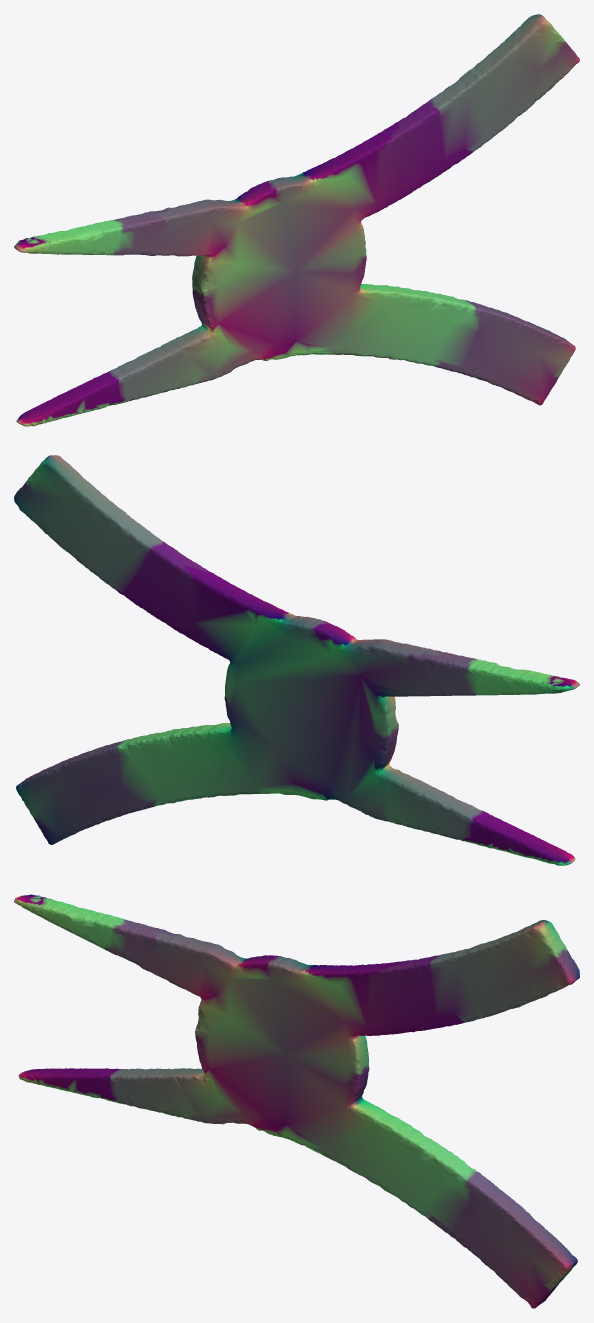
The model's file is scissor-6.off.obj.
3 views of the same model, one above another, from view 1: azimuth 30°, elevation 25°; view 2: azimuth 150°, elevation 25°; view 3: azimuth 330°, elevation 25° (orthographic).
Size of the model in its own units: 1.54 by 1.01 by 0.0569.
